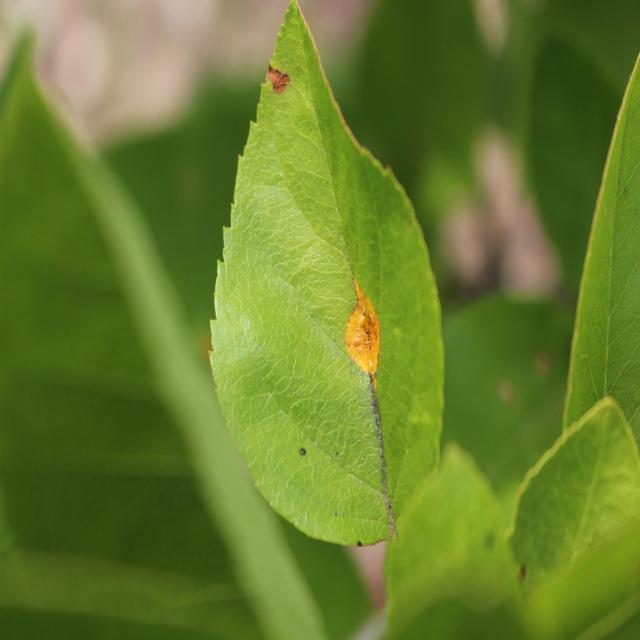Rust: (335, 269, 392, 402)
